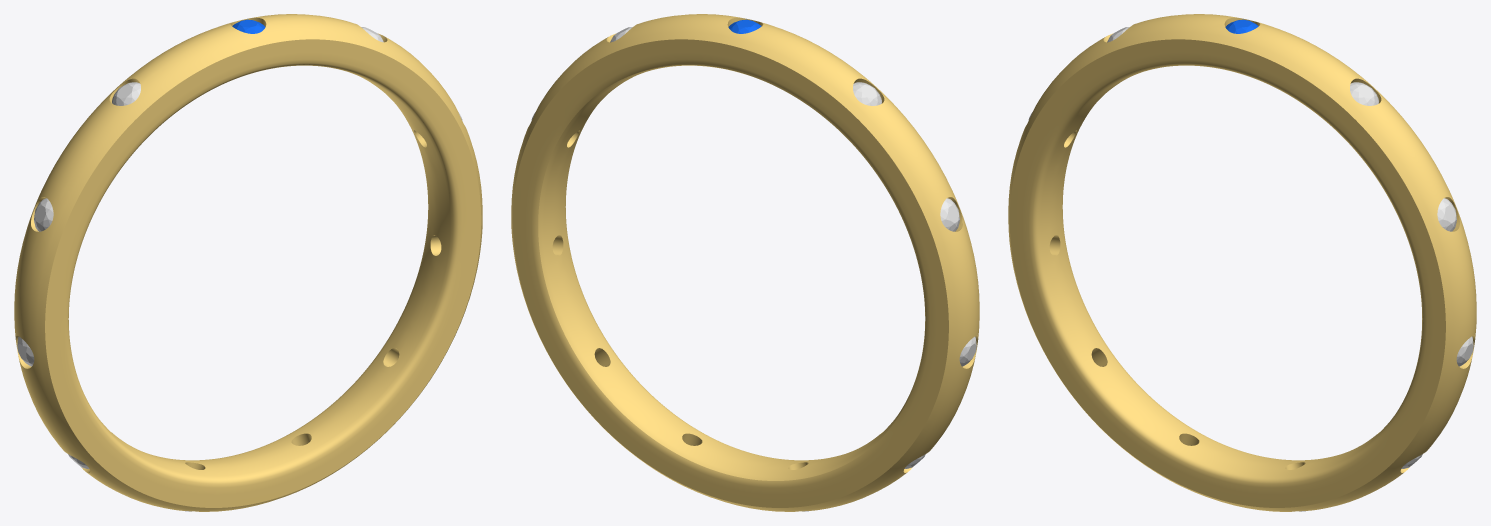
Rendered from KikiWB2.0_blender.glb.
The picture shows the model from 3 angles, left to right: view 1: azimuth 30°, elevation 25°; view 2: azimuth 150°, elevation 25°; view 3: azimuth 330°, elevation 25°; orthographic projection.
Parts seen in each view (by area): view 1: Andy hers 2.0 YG for 3d model; view 2: Andy hers 2.0 YG for 3d model; view 3: Andy hers 2.0 YG for 3d model.
Part boxes in pixels (x1,y1,x2,y2): Andy hers 2.0 YG for 3d model: [14, 14, 482, 511]; Andy hers 2.0 YG for 3d model: [511, 14, 979, 511]; Andy hers 2.0 YG for 3d model: [1008, 14, 1476, 511].
Size of the model in its own units: 18.06 by 18.04 by 2.
